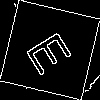E: (25, 25, 81, 78)
